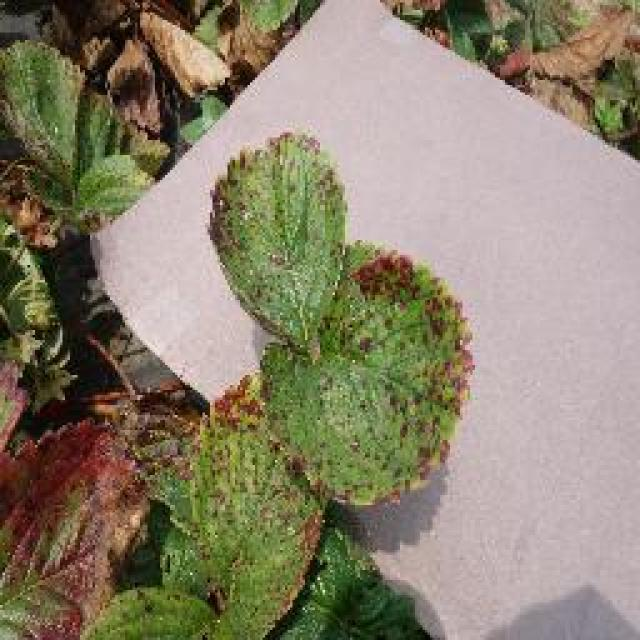Strawberry leaf scorch: (332, 255, 445, 470)
